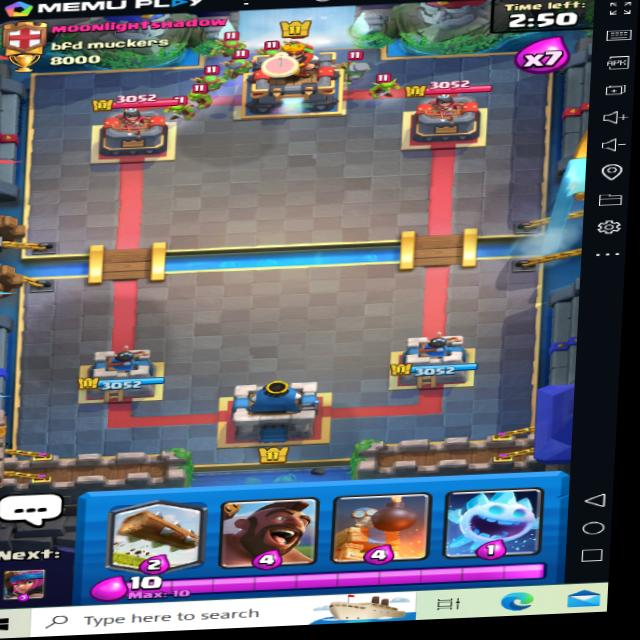goblin: (366, 71, 410, 97), (158, 96, 194, 120), (182, 87, 219, 109)
spear-goblin: (333, 54, 373, 82), (217, 30, 256, 58), (218, 54, 256, 80), (188, 68, 226, 91)
